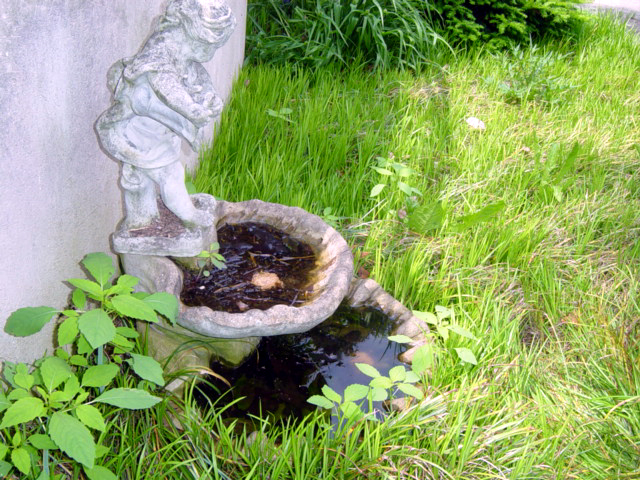bird bath: (100, 182, 456, 458)
container: (122, 275, 449, 456), (106, 196, 364, 342)
water: (196, 294, 412, 431), (183, 218, 307, 309)
